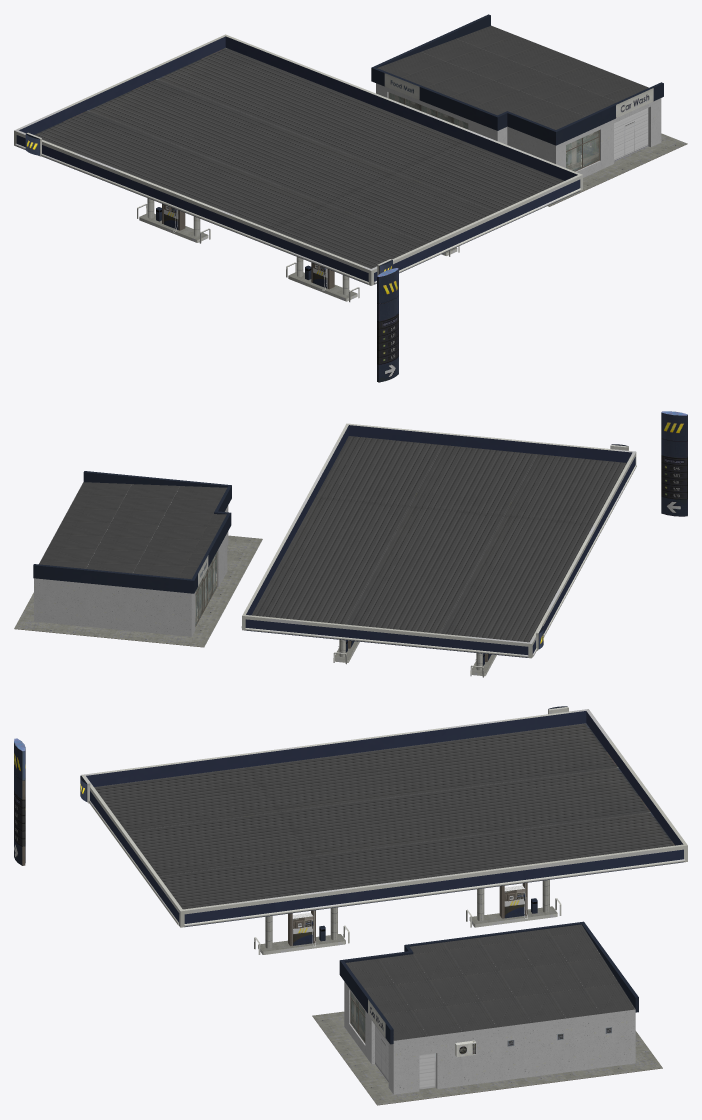
File: Station_Gas_Station_2__1_.FBX
3 views of the same model, one above another, from view 1: azimuth 30°, elevation 25°; view 2: azimuth 150°, elevation 25°; view 3: azimuth 270°, elevation 25° (orthographic). The views are drawn at different scales.
Parts seen in each view (by area): view 1: Station_Gas_Station_2__1_, Station_Gas_station_2_Totem__1_; view 2: Station_Gas_Station_2__1_, Station_Gas_station_2_Totem__1_; view 3: Station_Gas_Station_2__1_, Station_Gas_station_2_Totem__1_.
Part boxes in pixels (<box>): Station_Gas_Station_2__1_: <box>14,14,687,302</box>; Station_Gas_station_2_Totem__1_: <box>377,268,398,382</box>; Station_Gas_Station_2__1_: <box>14,423,636,677</box>; Station_Gas_station_2_Totem__1_: <box>661,411,687,516</box>; Station_Gas_Station_2__1_: <box>80,706,687,1105</box>; Station_Gas_station_2_Totem__1_: <box>14,738,25,865</box>.
Bounding box in the file's own units: 465 × 81.14 × 432.
